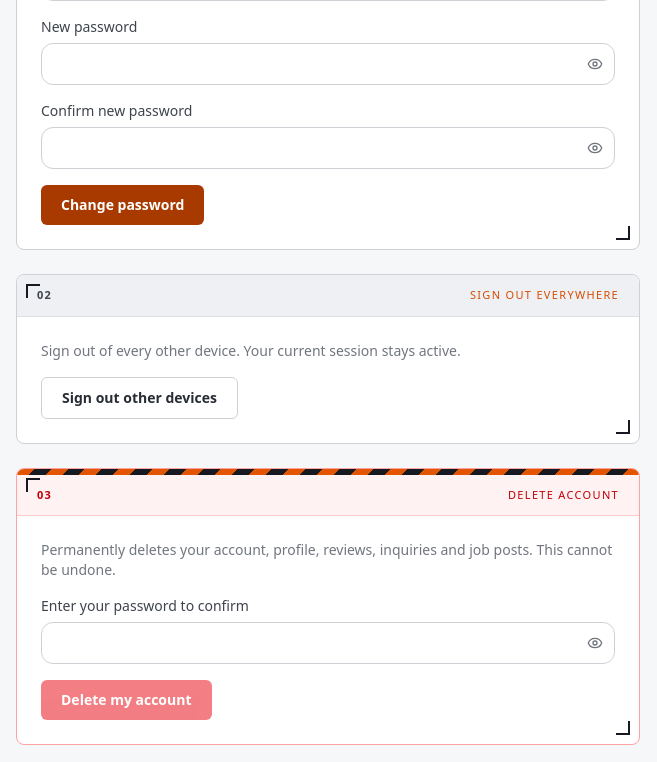
it: SecuritySettings — delete account › keeps the delete button disabled until a password is entered
The width and height of the screenshot is (657, 762).
(page scrolled)
Expected: the button "Delete my account" is disabled, x1=41 y1=680 x2=212 y2=720
In the password field labelled "Enter your password to confirm": (328,643) x1=41 y1=622 x2=615 y2=664, type "mypassword"
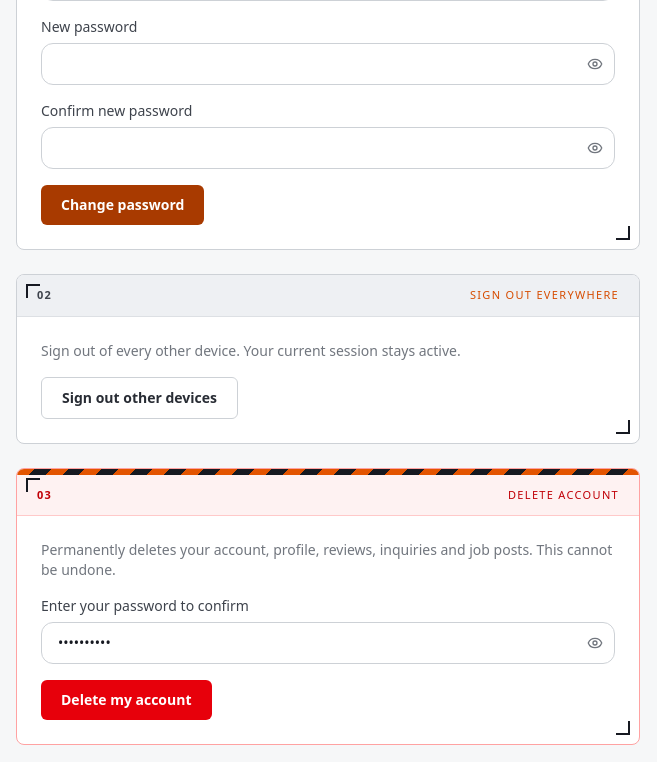
Now the button "Delete my account" is enabled, box x1=41 y1=680 x2=212 y2=720
